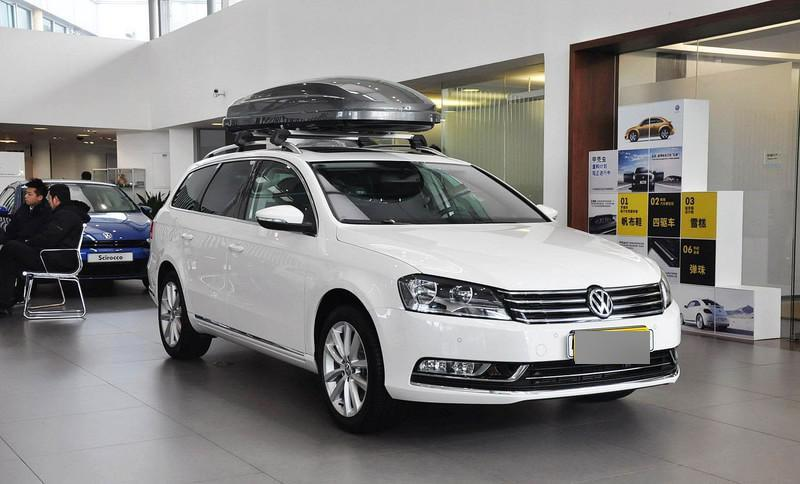Wagon: (145, 74, 683, 436)
